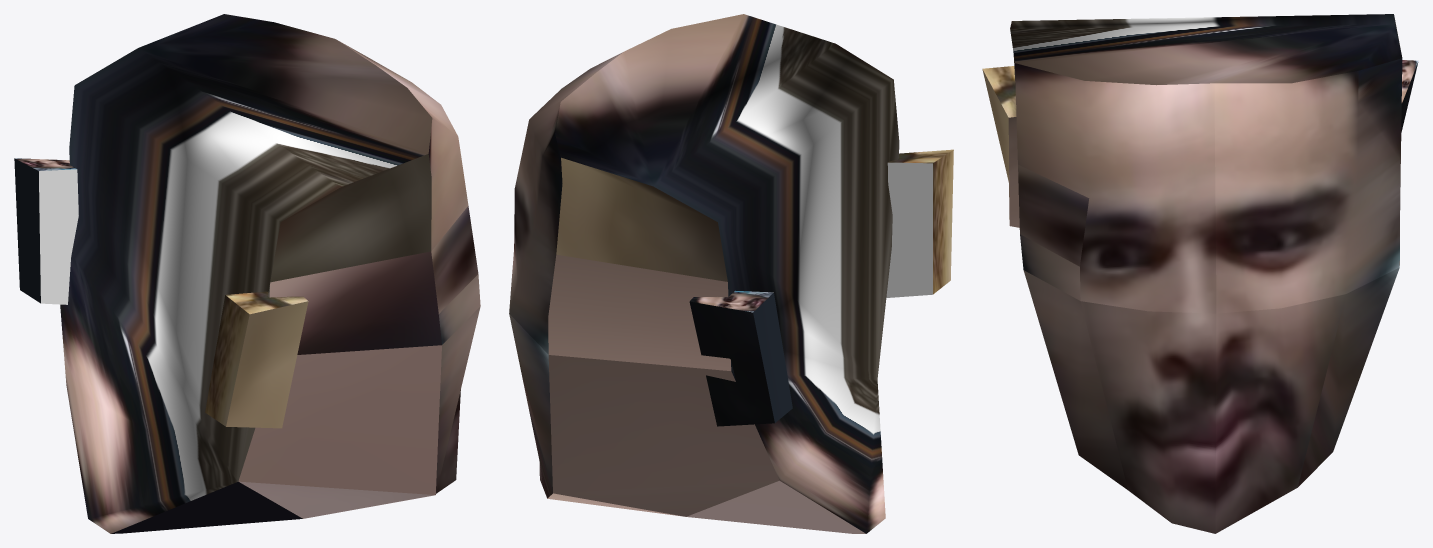
File: arpit34.fbx
3 renders of one model, left to right at view 1: azimuth 30°, elevation 25°; view 2: azimuth 150°, elevation 25°; view 3: azimuth 270°, elevation 25°, orthographic.
Visible parts, largest first — view 1: Cylinder; view 2: Cylinder; view 3: Cylinder.
Boxes of the visible parts, x1,y1,x2,y2 form: Cylinder: (14, 14, 480, 533); Cylinder: (509, 14, 953, 533); Cylinder: (982, 14, 1418, 533).
Size of the model in its own units: 61.33 by 72.49 by 67.79.
1 material, 1 textured.
